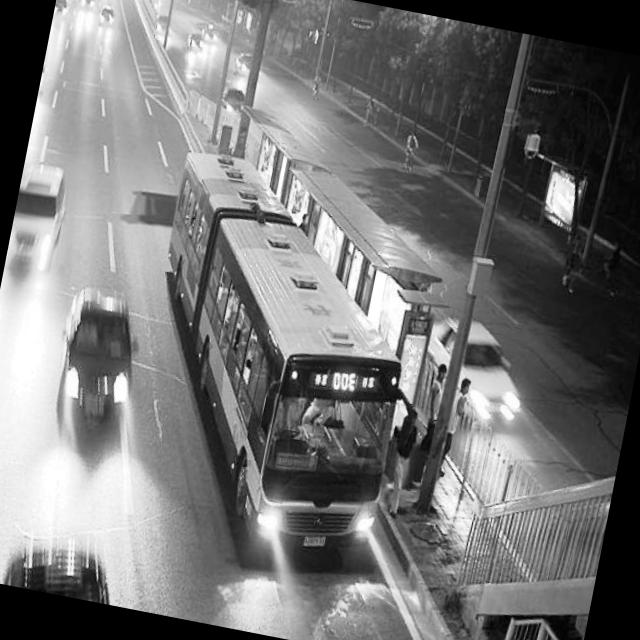Bus: (84, 111, 451, 596)
